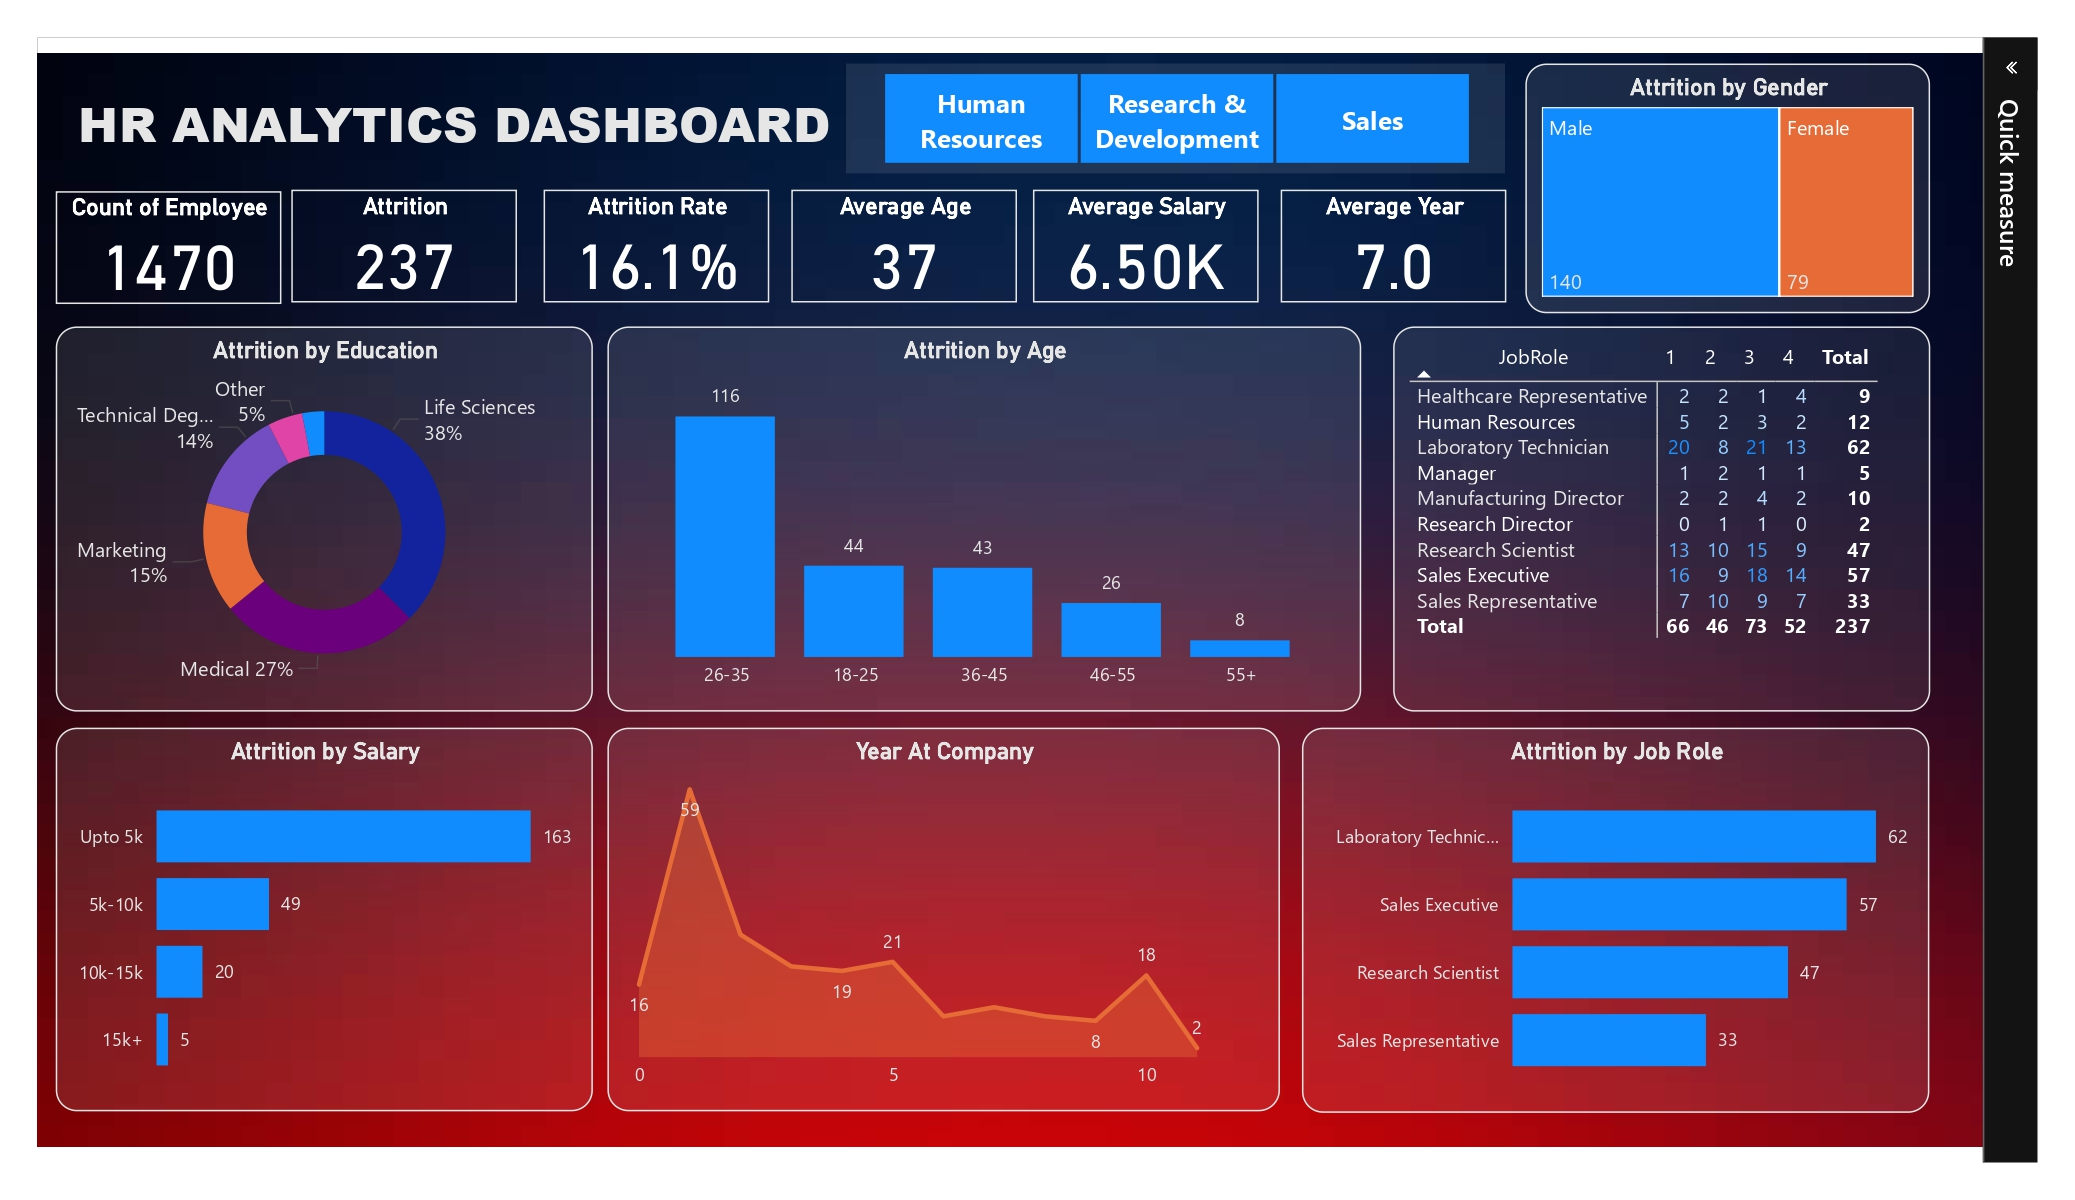

Layout of this report page (visuals, bound fields, positions):
{"tool":"powerbi","page":{"name":"Page 1","canvas":[1280,720],"ordinal":0},"visuals":[{"type":"card","title":"Count of Employee","fields":{"Values":["CountNonNull(HR_Analytics.EmpID)"]},"box":[11.7,91.7,150,75],"z":0},{"type":"card","title":"Attrition","fields":{"Values":["Sum(HR_Analytics.AttritionCount)"]},"box":[169,91.1,149.9,74.9],"z":1000},{"type":"card","title":"Attrition Rate","fields":{"Values":["HR_Analytics.AttritionRate"]},"box":[336.5,91.1,149.9,74.9],"z":2000},{"type":"card","title":"Average Age","fields":{"Values":["Avg(HR_Analytics.Age)"]},"box":[501.1,91.1,149.9,74.9],"z":3000},{"type":"card","title":"Average Year","fields":{"Values":["Avg(HR_Analytics.YearsAtCompany)"]},"box":[825.8,91.1,149.9,74.9],"z":4000},{"type":"card","title":"Average Salary","fields":{"Values":["Avg(HR_Analytics.MonthlyIncome)"]},"box":[661.2,91.1,149.9,74.9],"z":5000},{"type":"donutChart","title":"Attrition by Education","fields":{"Category":["HR_Analytics.EducationField"],"Y":["Sum(HR_Analytics.AttritionCount)"]},"box":[11.8,182.2,357.1,255.7],"z":6000},{"type":"columnChart","title":"Attrition by Age","fields":{"Category":["HR_Analytics.AgeGroup"],"Y":["Sum(HR_Analytics.AttritionCount)"]},"box":[379.1,182.2,501.1,255.7],"z":7000},{"type":"pivotTable","fields":{"Rows":["HR_Analytics.JobRole"],"Columns":["HR_Analytics.JobSatisfaction"],"Values":["Sum(HR_Analytics.AttritionCount)"]},"box":[900.7,182.2,357.1,255.7],"z":8000},{"type":"barChart","title":"Attrition by Salary","fields":{"Category":["HR_Analytics.SalarySlab"],"Y":["Sum(HR_Analytics.AttritionCount)"]},"box":[11.8,448.2,357.1,255.7],"z":9000},{"type":"barChart","title":"Attrition by Job Role","fields":{"Y":["Sum(HR_Analytics.AttritionCount)"],"Category":["HR_Analytics.JobRole"]},"box":[840.5,448.2,417.3,255.7],"z":10000},{"type":"areaChart","title":"Year At Company","fields":{"Category":["HR_Analytics.YearsAtCompany"],"Y":["Sum(HR_Analytics.AttritionCount)"]},"box":[378.3,448.3,446.7,255],"z":11000},{"type":"treemap","title":"Attrition by Gender","fields":{"Group":["HR_Analytics.Gender"],"Values":["Sum(HR_Analytics.AttritionCount)"]},"box":[988.9,7.3,268.9,166],"z":12000},{"type":"slicer","fields":{"Values":["HR_Analytics.Department"]},"box":[537.8,7.3,437.9,73.5],"z":13000},{"type":"textbox","box":[22,19.1,526,72],"z":14000}]}

Visuals, with their boxes in screenshot pixels (x1, y1, x2, y2):
"Count of Employee" card: locate(35, 163, 275, 283)
"Attrition" card: locate(286, 162, 526, 282)
"Attrition Rate" card: locate(554, 162, 794, 282)
"Average Age" card: locate(817, 162, 1057, 282)
"Average Year" card: locate(1336, 162, 1576, 282)
"Average Salary" card: locate(1073, 162, 1313, 282)
"Attrition by Education" donutChart: locate(35, 307, 606, 716)
"Attrition by Age" columnChart: locate(622, 307, 1423, 716)
pivotTable - HR_Analytics.JobRole x HR_Analytics.JobSatisfaction: locate(1456, 307, 2027, 716)
"Attrition by Salary" barChart: locate(35, 733, 606, 1142)
"Attrition by Job Role" barChart: locate(1360, 733, 2027, 1142)
"Year At Company" areaChart: locate(621, 733, 1335, 1141)
"Attrition by Gender" treemap: locate(1597, 28, 2027, 293)
slicer - HR_Analytics.Department: locate(876, 28, 1576, 145)
textbox: locate(51, 47, 892, 162)
